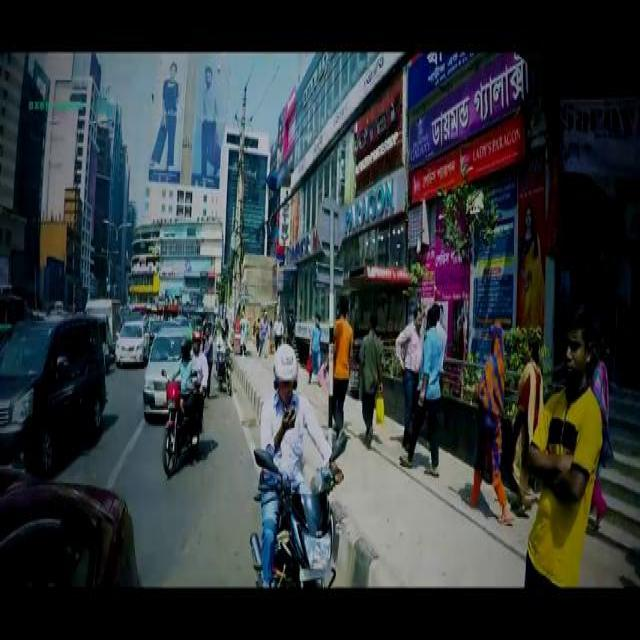bike: (249, 444, 341, 581), (160, 364, 204, 474), (213, 348, 233, 391)
vehicle: (1, 311, 107, 470), (144, 324, 193, 418), (114, 317, 149, 364)
